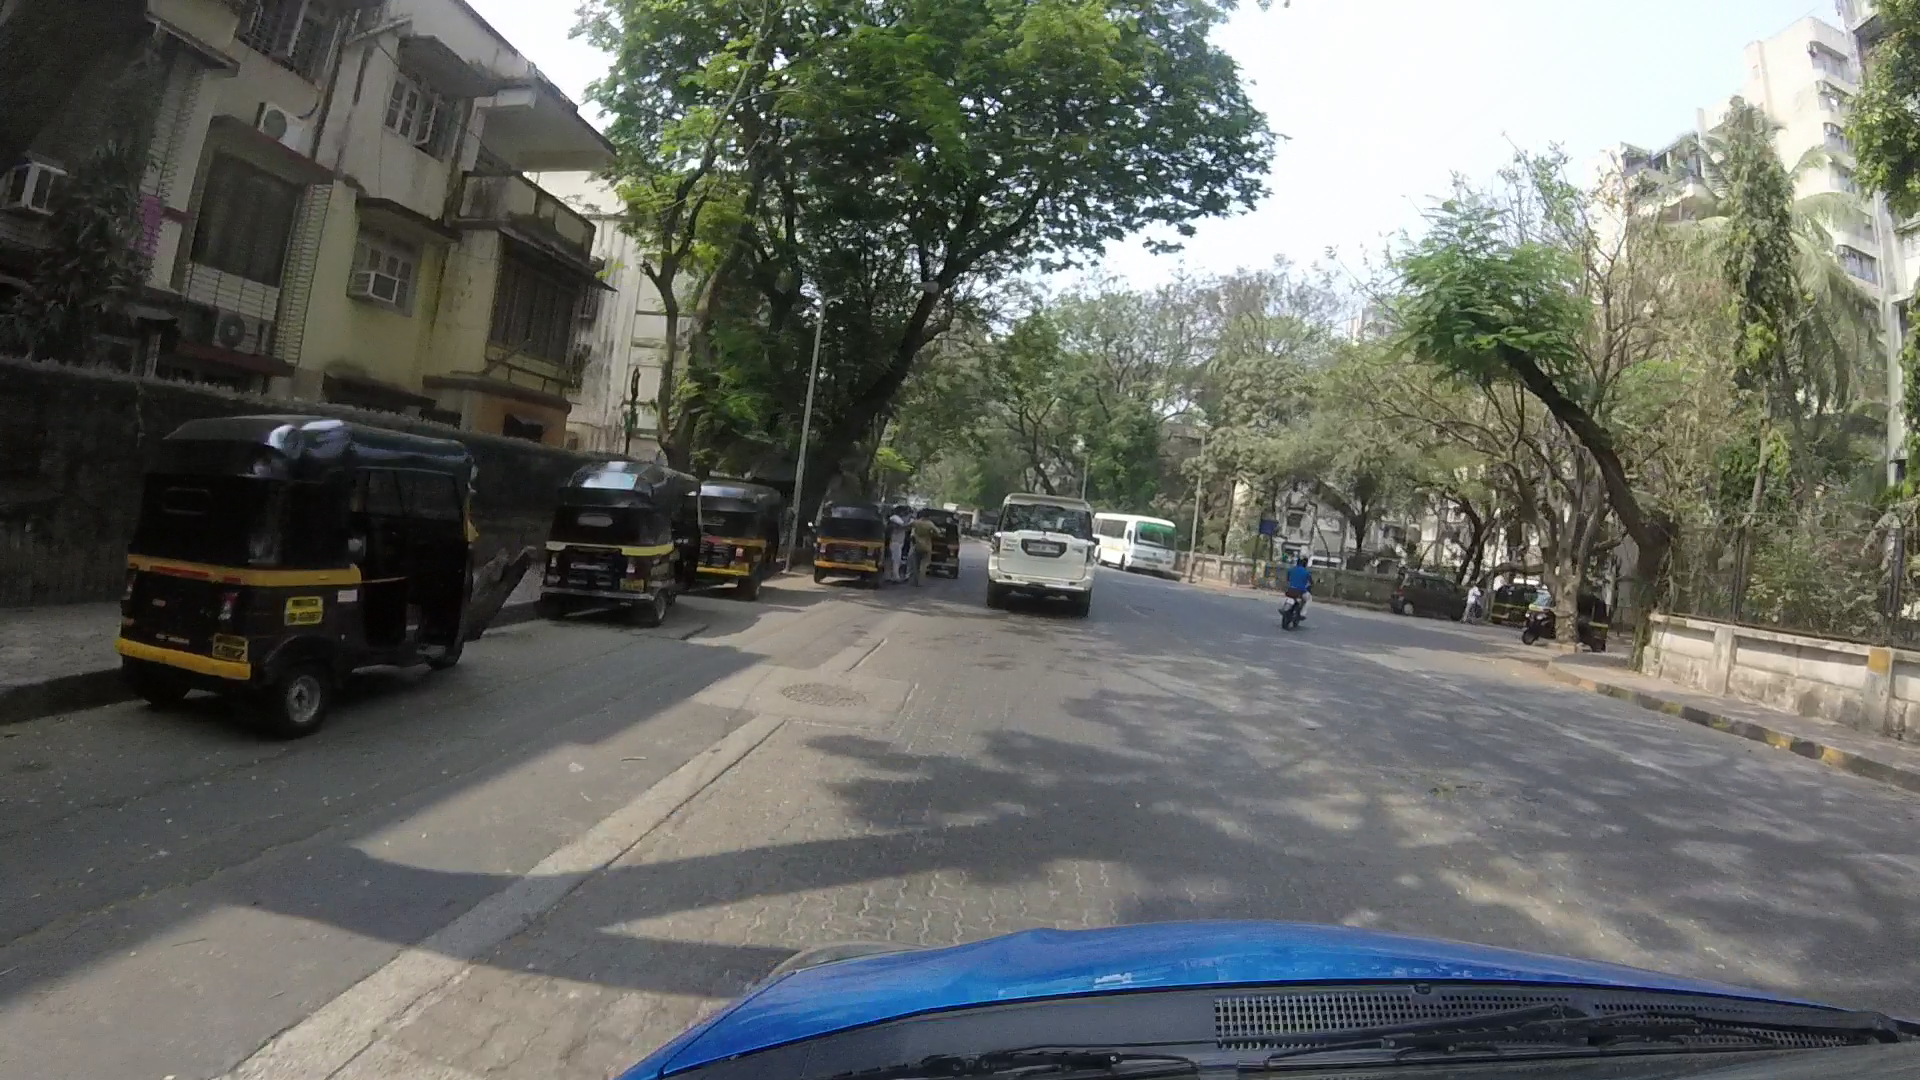bike/scooter: (1251, 549, 1331, 644)
bus: (1087, 504, 1182, 589)
car: (960, 484, 1138, 646)
rickshaw: (92, 396, 504, 742), (535, 422, 704, 640), (680, 460, 804, 601), (810, 487, 895, 611), (1522, 574, 1617, 653), (905, 501, 963, 582)
